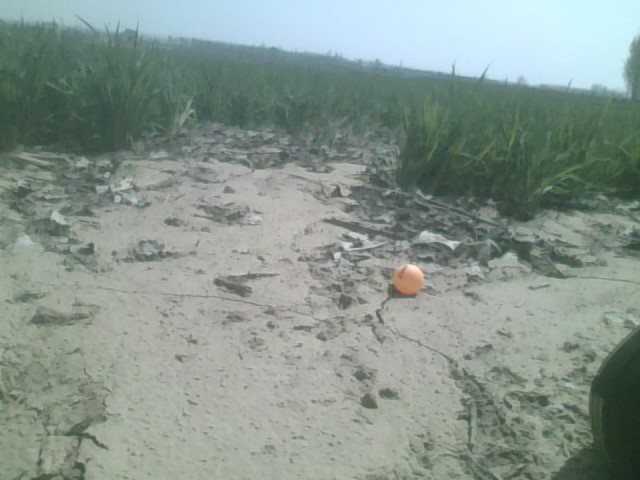ball: (394, 263, 425, 296)
